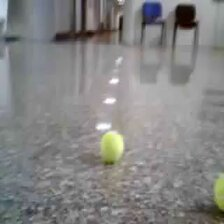tennis: (99, 130, 122, 162)
